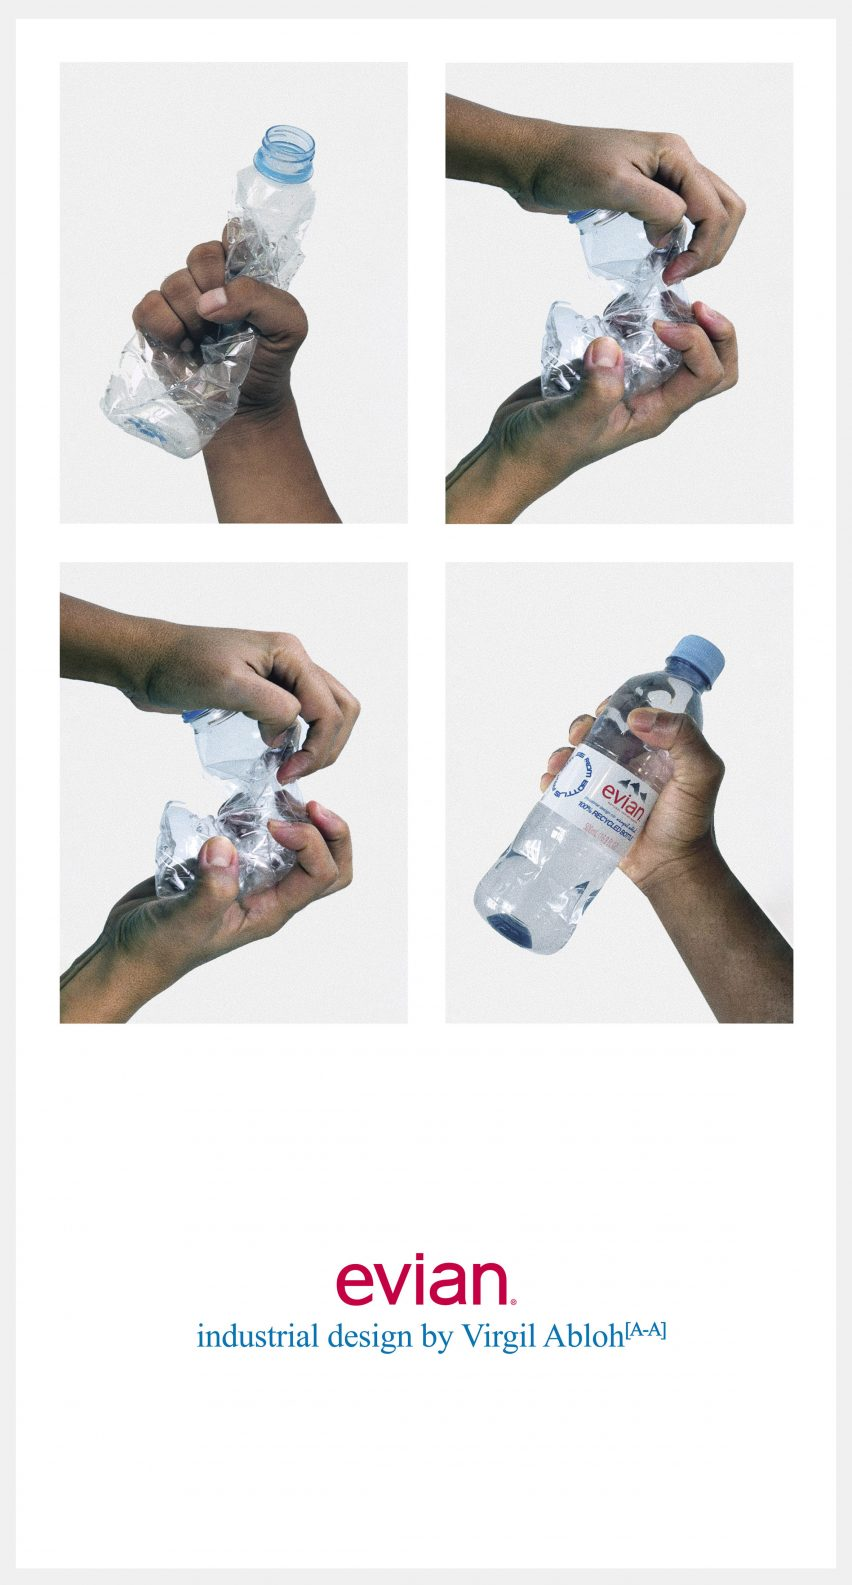plastic_bottle: (442, 573, 806, 1038), (56, 59, 417, 504), (468, 93, 771, 516), (86, 606, 396, 1016)
